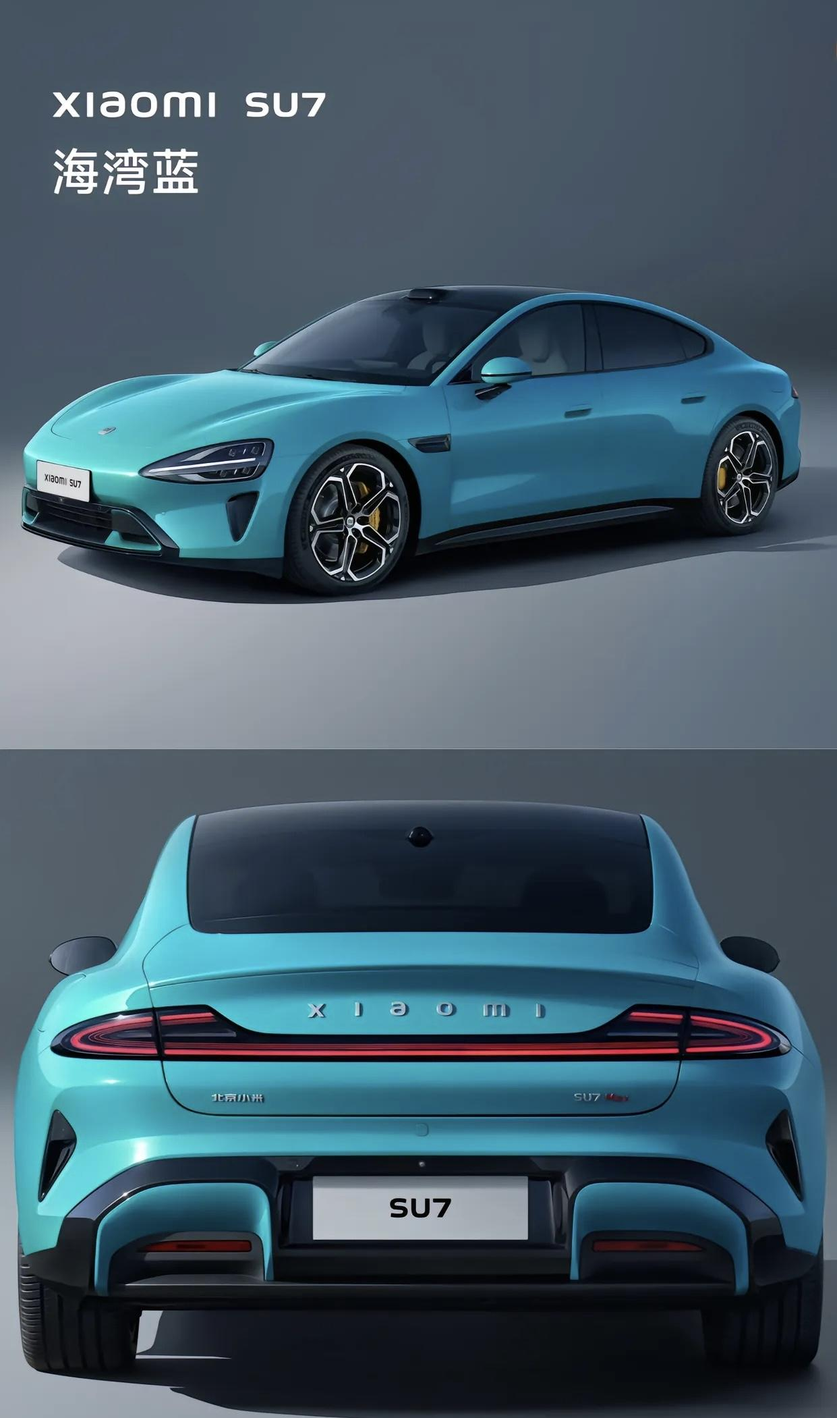su7: (11, 812, 832, 1370), (16, 283, 810, 589)
